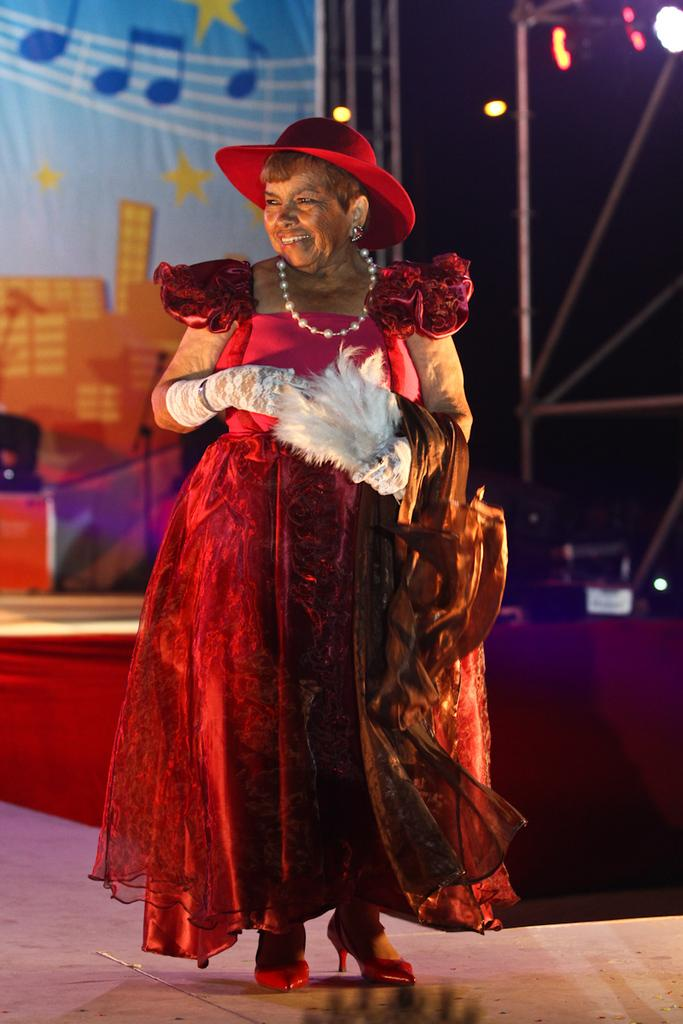Hat: (211, 114, 416, 250)
